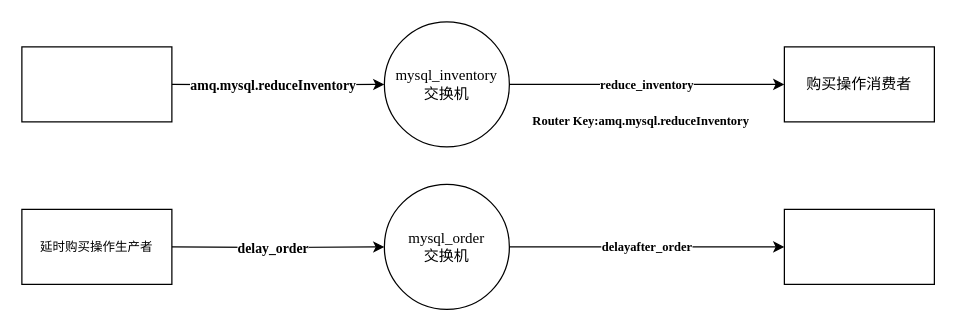
Image size: 956x331. Some labels were removed from this diagram. Here are the shapes that lost their labels. From the top down, the centre of each, then its label:
At (96,84): "购买操作生产者".
At (858,246): "延时购买操作消费者".
